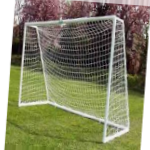goals: (18, 14, 131, 145)
